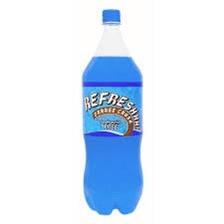bottle: (77, 6, 146, 220)
